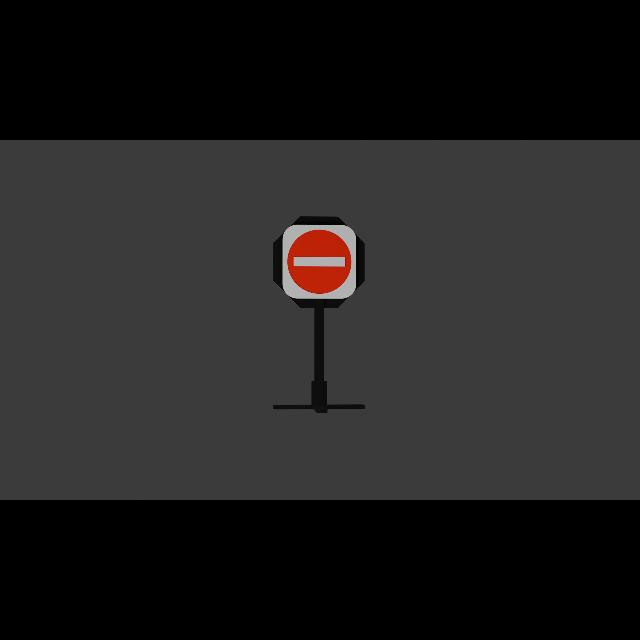sign_noentry: (283, 225, 358, 299)
